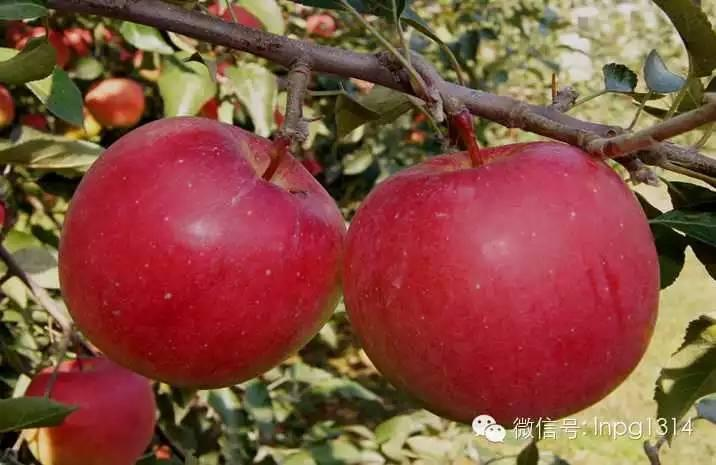apple: (341, 137, 663, 423), (58, 113, 347, 392), (10, 356, 158, 461)
